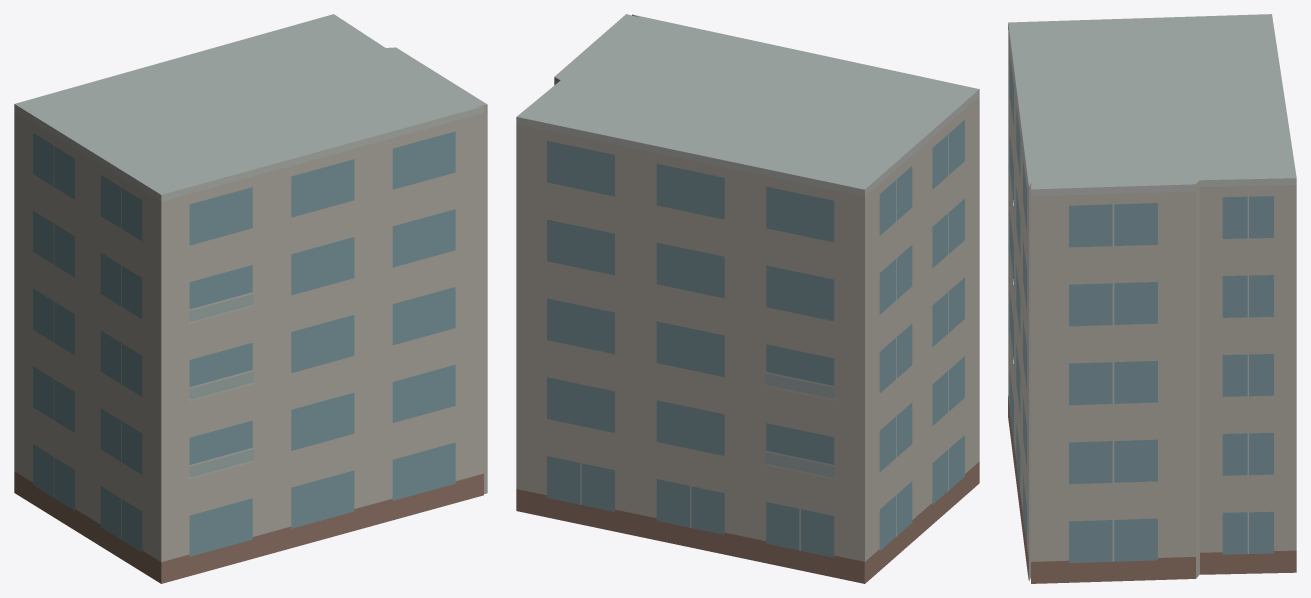
The model's file is survey-upis-32821931.glb.
3 views of the same model, side by side, from view 1: azimuth 30°, elevation 25°; view 2: azimuth 150°, elevation 25°; view 3: azimuth 270°, elevation 25° (orthographic).
Parts seen in each view (by area): view 1: survey-upis-32821931.tmp; view 2: survey-upis-32821931.tmp; view 3: survey-upis-32821931.tmp.
Boxes of the visible parts, x1,y1,x2,y2 form: survey-upis-32821931.tmp: (14, 14, 487, 583); survey-upis-32821931.tmp: (516, 14, 979, 583); survey-upis-32821931.tmp: (1008, 14, 1296, 583).
Size of the model in its own units: 13.36 by 14 by 9.29.
